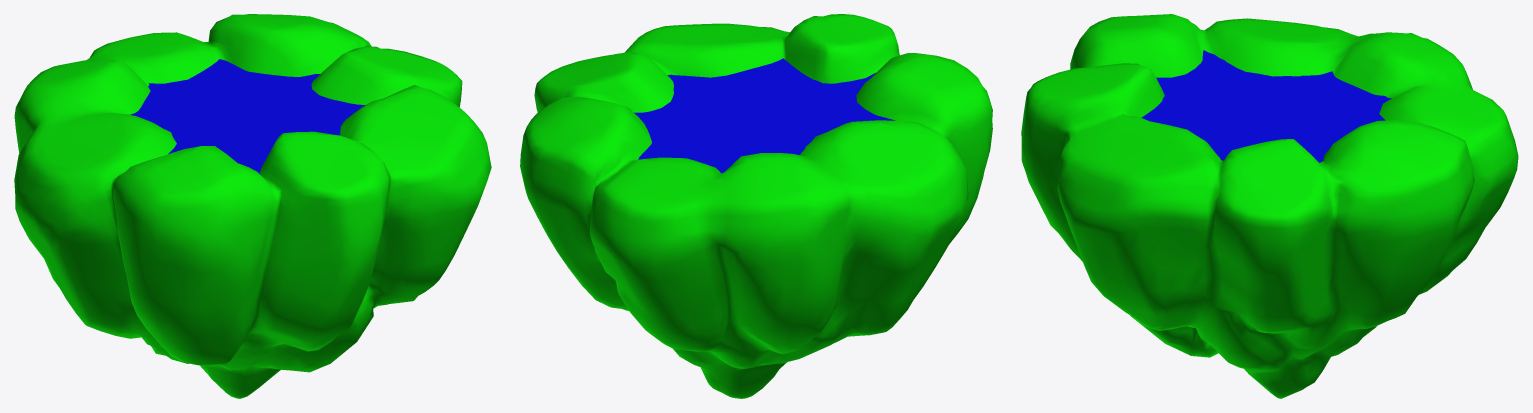
File: SmallIsland_low.fbx
The picture shows the model from 3 angles, left to right: view 1: azimuth 30°, elevation 25°; view 2: azimuth 150°, elevation 25°; view 3: azimuth 270°, elevation 25°; orthographic projection. The views are drawn at different scales.
Parts seen in each view (by area): view 1: PM3D_Sphere3D1_15, PolySphere; view 2: PM3D_Sphere3D1_15, PolySphere; view 3: PM3D_Sphere3D1_15, PolySphere.
Part boxes in pixels (x1,y1,x2,y2): PM3D_Sphere3D1_15: (14, 14, 491, 398); PolySphere: (130, 59, 365, 173); PM3D_Sphere3D1_15: (520, 14, 992, 398); PolySphere: (634, 58, 895, 173); PM3D_Sphere3D1_15: (1021, 14, 1518, 398); PolySphere: (1141, 50, 1391, 162).
Bounding box in the file's own units: 2.75 × 1.98 × 2.8.
